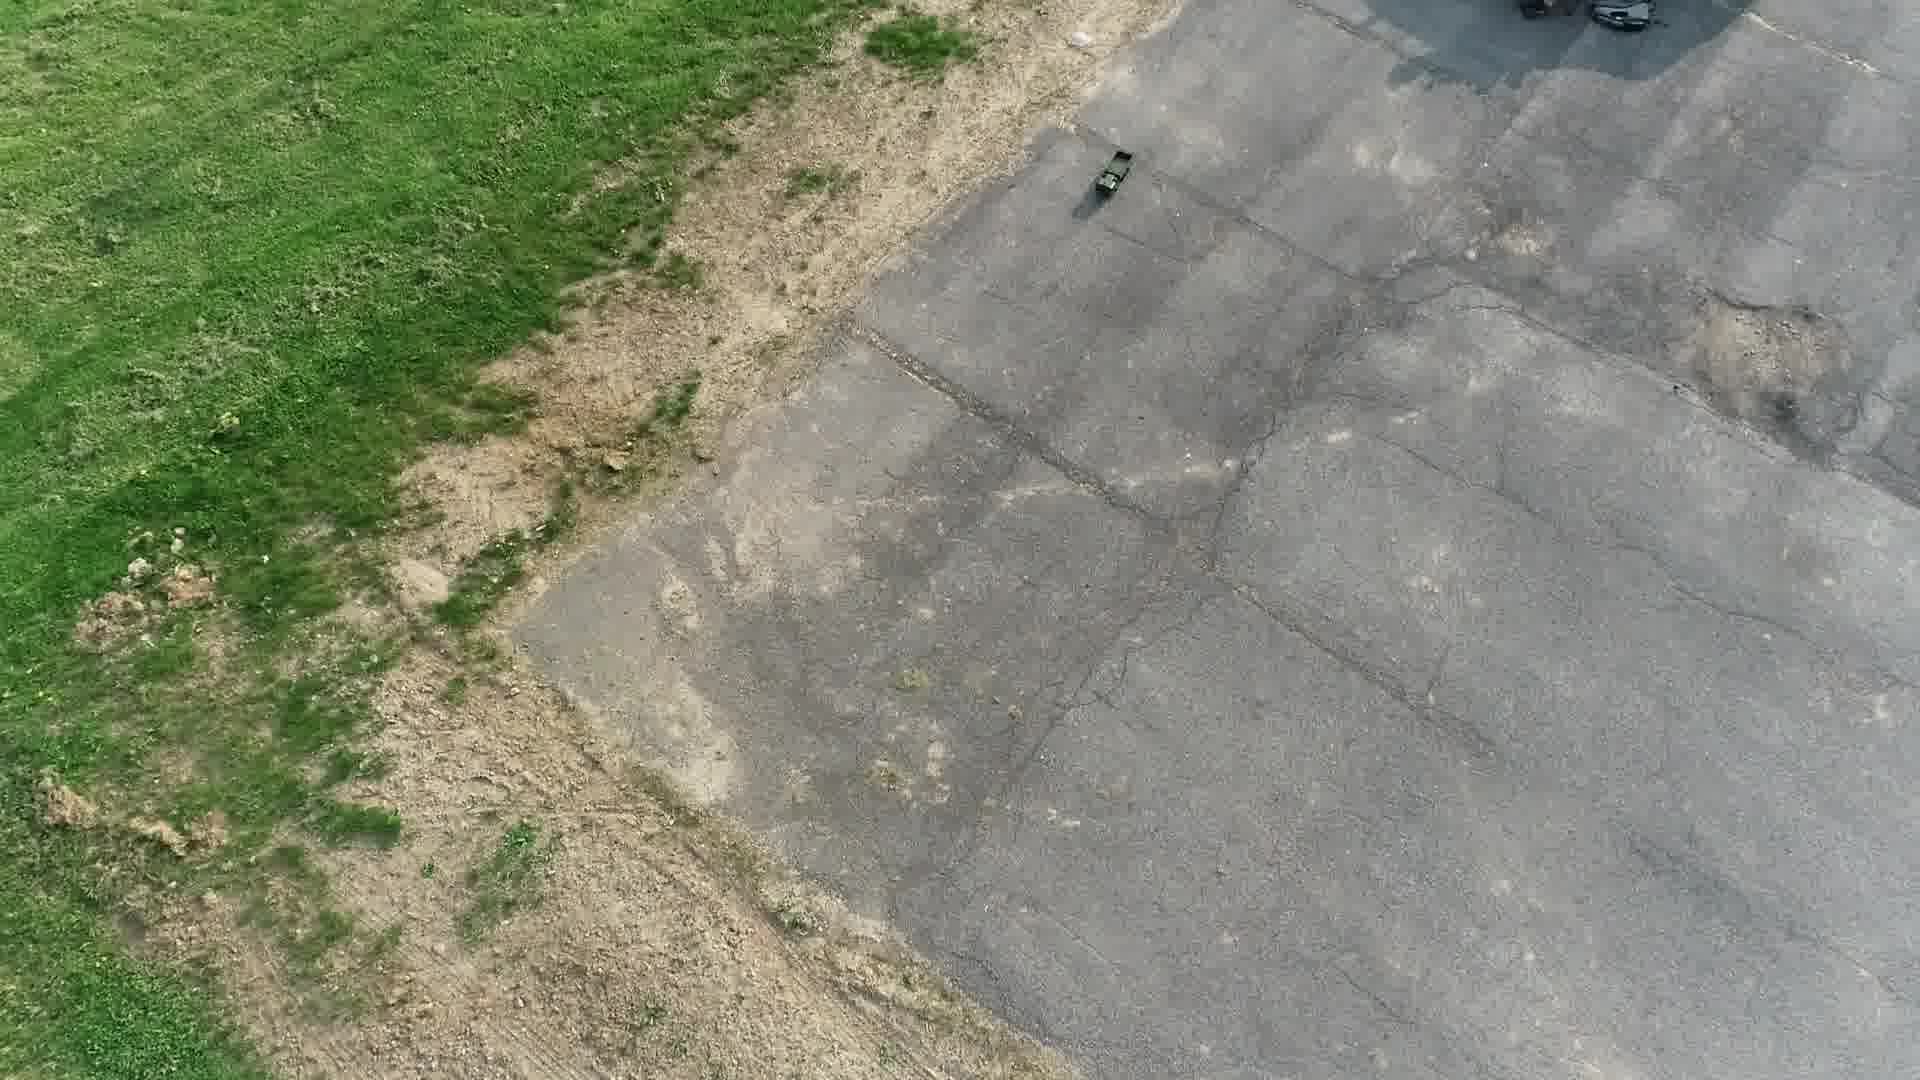transporter9: (1092, 145, 1135, 200)
